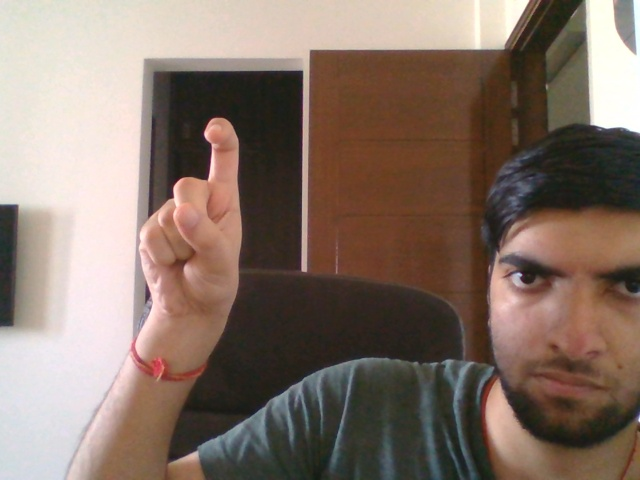LetterZ: (136, 114, 246, 324)
